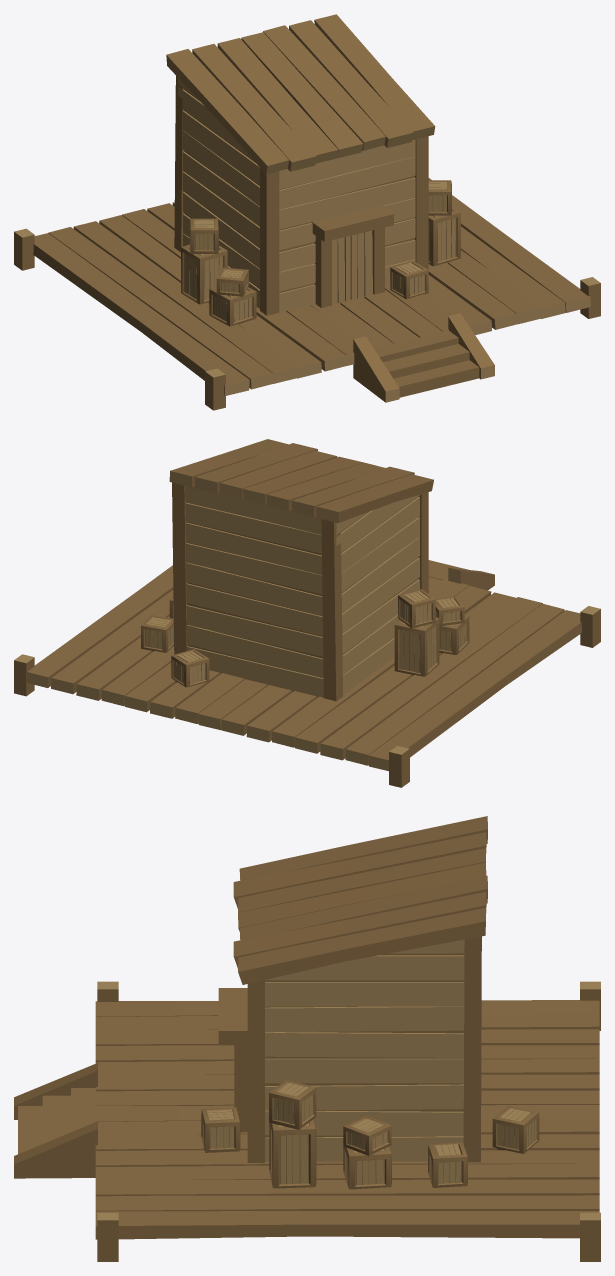
The model's file is storage-hut.glb.
3 renders of one model, top to bottom at view 1: azimuth 30°, elevation 25°; view 2: azimuth 150°, elevation 25°; view 3: azimuth 270°, elevation 25°, orthographic. The views are drawn at different scales.
Visible parts, largest first — view 1: Storage_FirstAge_Level1; view 2: Storage_FirstAge_Level1; view 3: Storage_FirstAge_Level1.
Part boxes in pixels (x1,y1,x2,y2): Storage_FirstAge_Level1: [14, 14, 600, 410]; Storage_FirstAge_Level1: [14, 439, 600, 787]; Storage_FirstAge_Level1: [14, 816, 600, 1261].
Bounding box in the file's own units: 1.41 × 0.7613 × 1.47.
